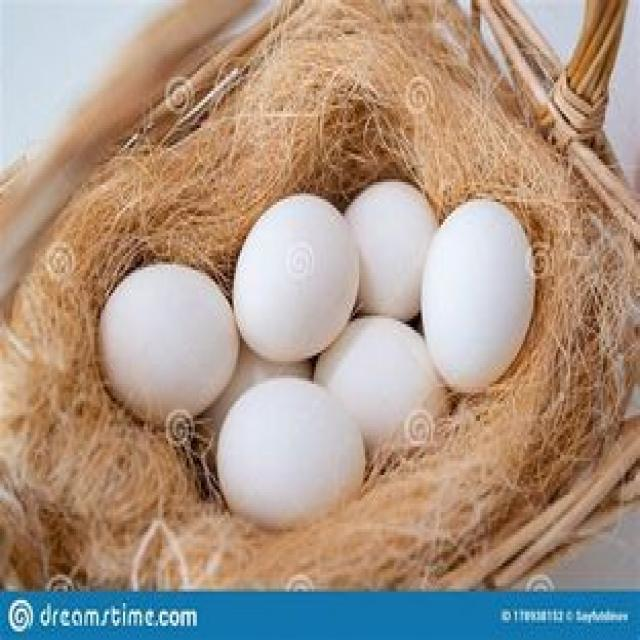Egg: (86, 252, 242, 429), (411, 200, 544, 393), (234, 190, 371, 375), (210, 374, 374, 526)
